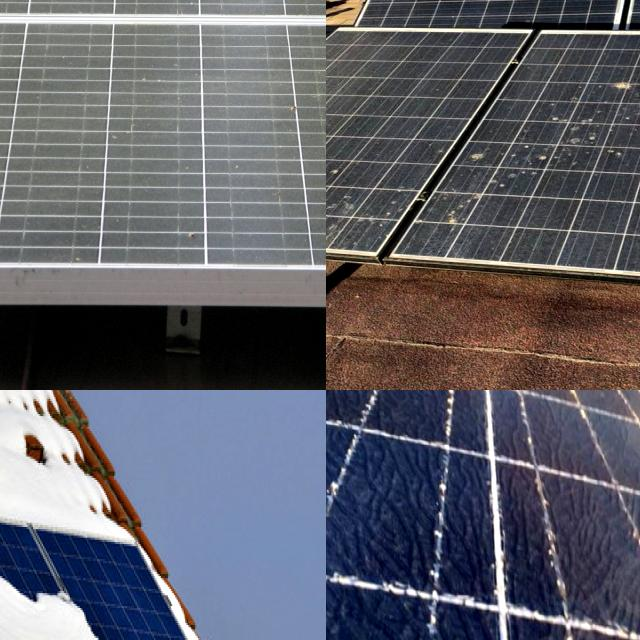crack: (0, 0, 326, 390)
dust: (453, 86, 614, 215), (326, 179, 393, 247)
panel: (12, 414, 130, 544), (0, 395, 36, 521), (0, 514, 52, 594), (0, 554, 58, 615), (0, 506, 51, 571), (0, 476, 39, 536), (74, 600, 132, 640), (0, 460, 37, 521), (0, 390, 35, 446), (0, 403, 35, 458), (0, 390, 29, 431), (0, 390, 39, 419), (0, 390, 26, 432), (0, 390, 34, 417), (0, 455, 15, 498)
